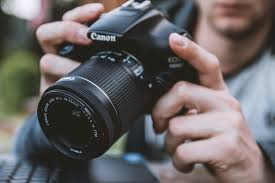camera: (38, 14, 154, 159)
